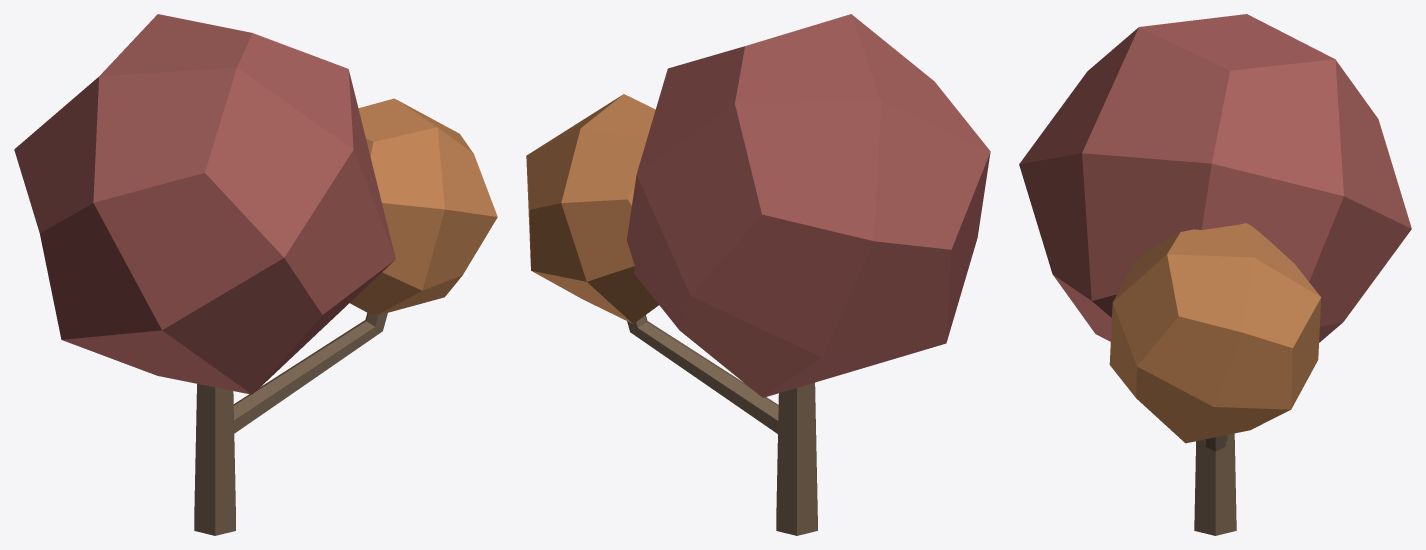
The model's file is Tree_07.fbx.
3 views of the same model, side by side, from view 1: azimuth 30°, elevation 25°; view 2: azimuth 150°, elevation 25°; view 3: azimuth 270°, elevation 25° (orthographic).
Visible parts, largest first — view 1: Tree_07; view 2: Tree_07; view 3: Tree_07.
Boxes of the visible parts, box(x1,y1,x2,y2) form: Tree_07: box(14, 14, 497, 535); Tree_07: box(526, 14, 990, 535); Tree_07: box(1019, 14, 1411, 535).
Bounding box in the file's own units: 113 × 125 × 90.44.
